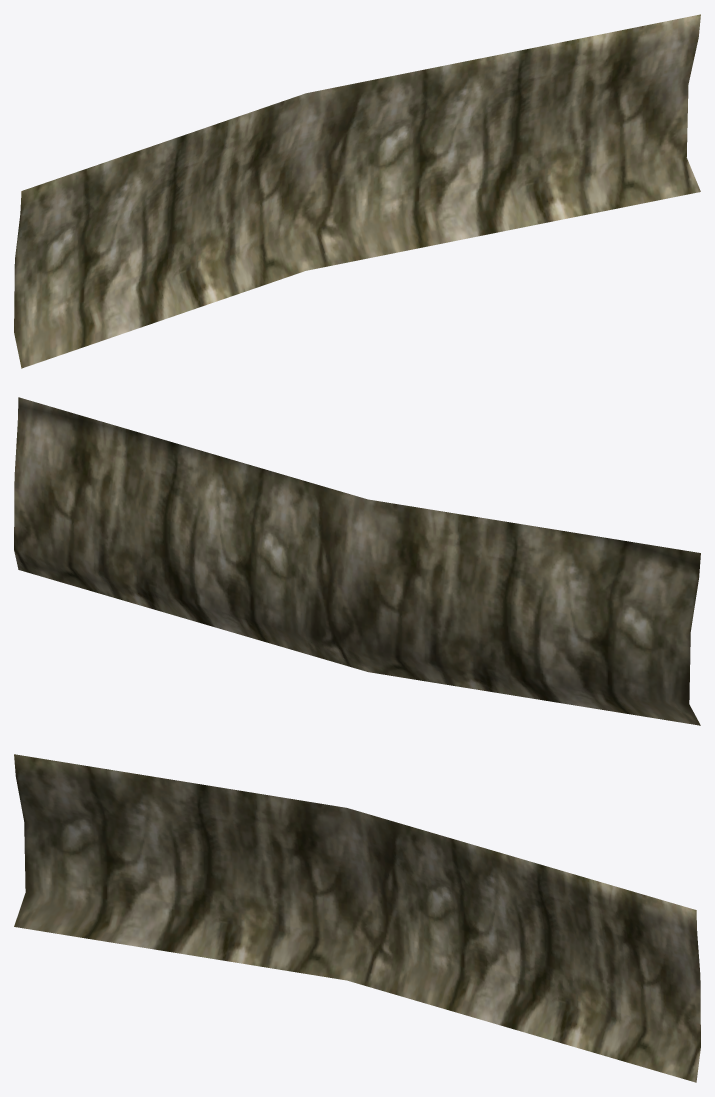
The model's file is CB_NEWPLAYSURFACE_CB_PLAYSURFACE120.fbx.
3 renders of one model, top to bottom at view 1: azimuth 30°, elevation 25°; view 2: azimuth 150°, elevation 25°; view 3: azimuth 330°, elevation 25°, orthographic. The views are drawn at different scales.
Parts seen in each view (by area): view 1: CB_NEWPLAYSURFACE_CB_PLAYSURFACE120; view 2: CB_NEWPLAYSURFACE_CB_PLAYSURFACE120; view 3: CB_NEWPLAYSURFACE_CB_PLAYSURFACE120.
Part boxes in pixels (x1,y1,x2,y2): CB_NEWPLAYSURFACE_CB_PLAYSURFACE120: (14,14,700,368); CB_NEWPLAYSURFACE_CB_PLAYSURFACE120: (14,397,700,725); CB_NEWPLAYSURFACE_CB_PLAYSURFACE120: (14,754,700,1082).
Bounding box in the file's own units: 162815 × 40000 × 15857.
2 materials, 2 textured.
